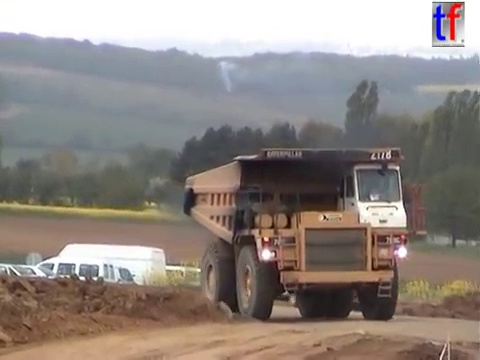truck: (181, 144, 430, 322)
